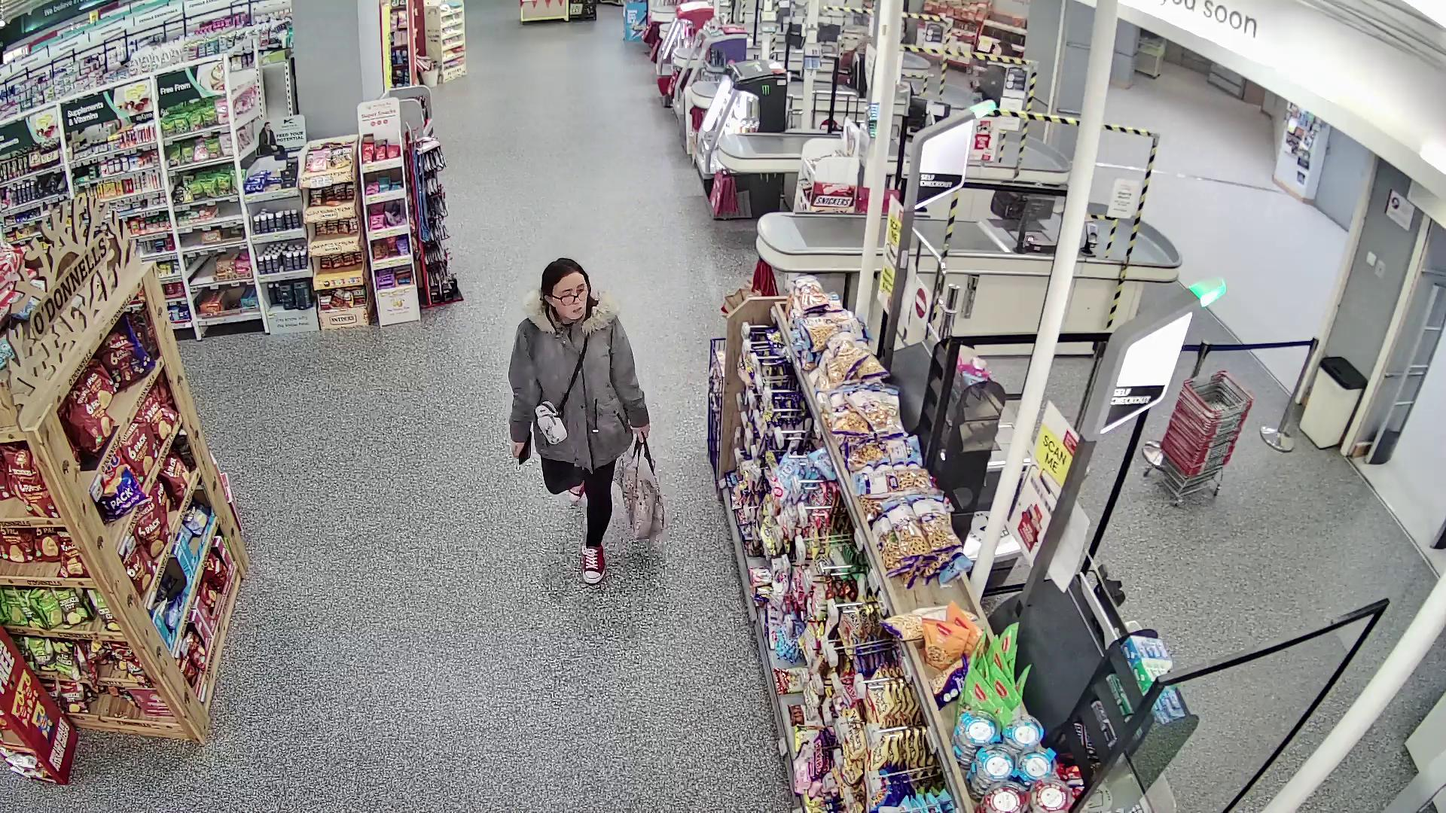backpack-or-handbag: (535, 400, 568, 444)
filled-shopping-bags: (611, 439, 667, 540)
person: (510, 259, 650, 585)
person-with-backpack-handbag-and-shopping-bag-s-: (510, 258, 666, 583)
